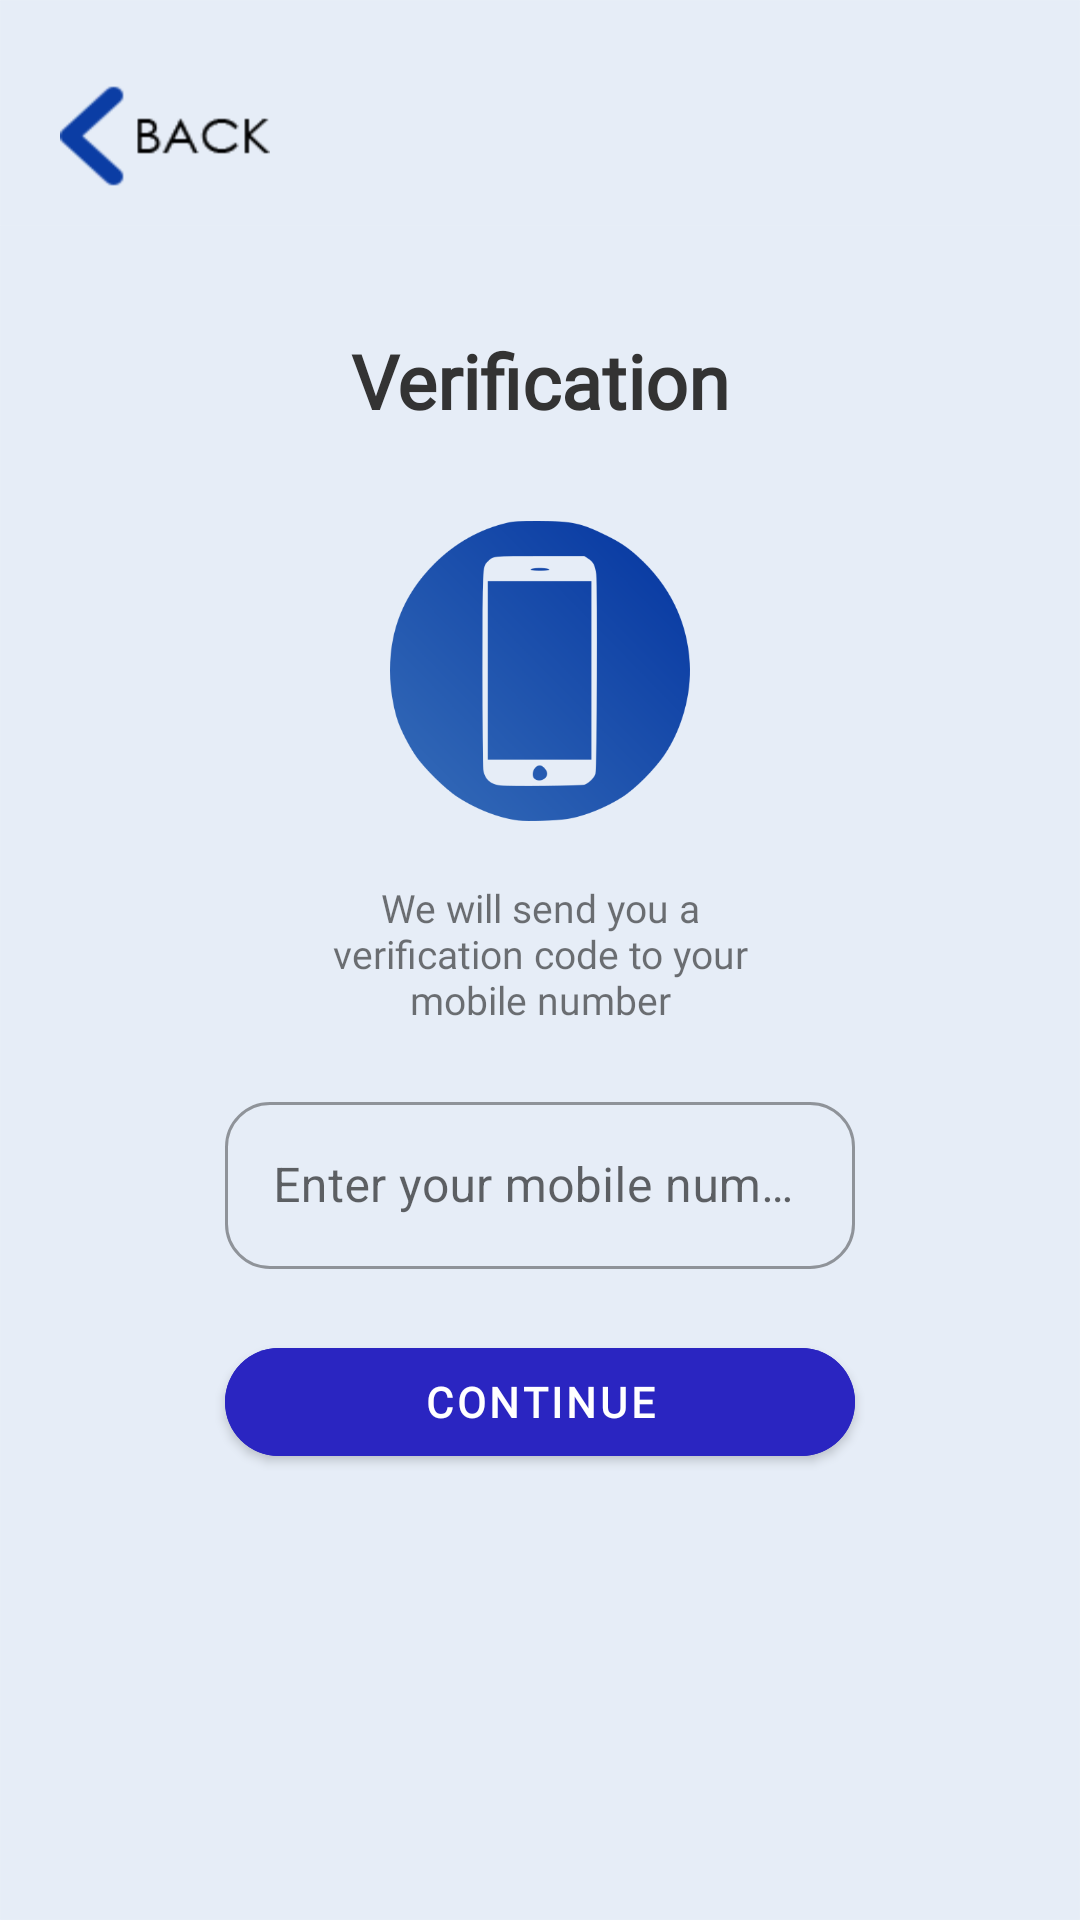

Named icons in this screenshot (1080 × 1920) and their bounding boxes, (x1=x1, y1=y1, x2=x2, y2=y2):
device: (x1=390, y1=521, x2=690, y2=821)
